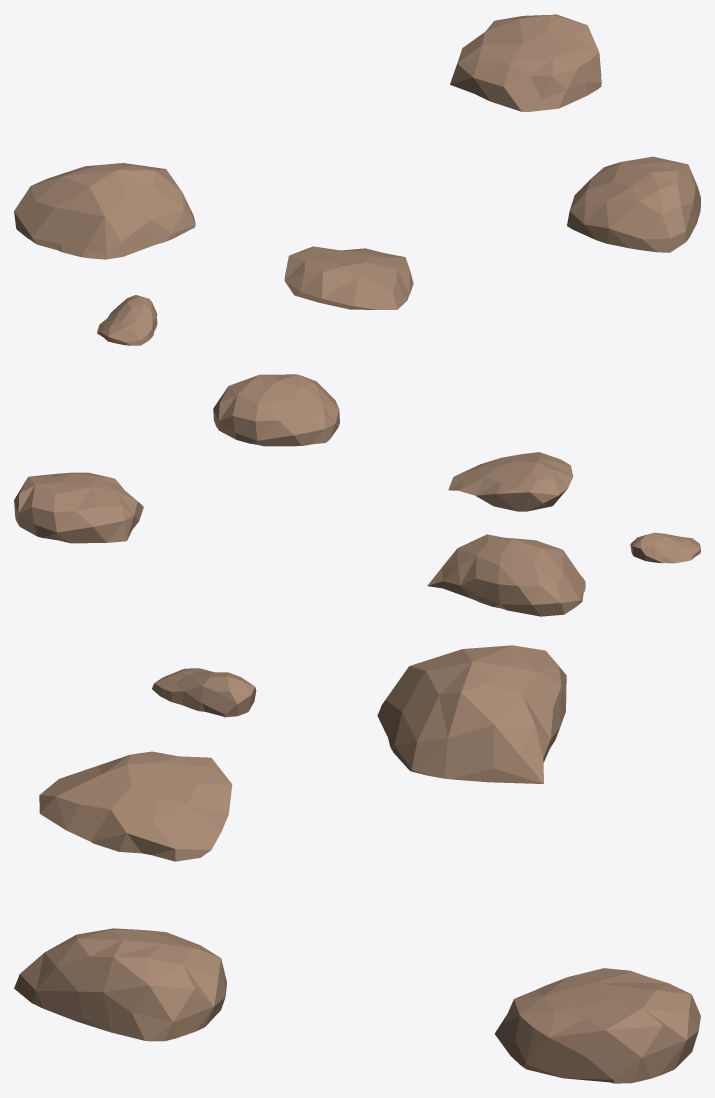
The model's file is Small_Rocks.fbx.
3 renders of one model, top to bottom at view 1: azimuth 30°, elevation 25°; view 2: azimuth 150°, elevation 25°; view 3: azimuth 270°, elevation 25°, orthographic. The views are drawn at different scales.
Parts seen in each view (by area): view 1: Small Rocks; view 2: Small Rocks; view 3: Small Rocks.
Boxes of the visible parts, x1=… form: Small Rocks: x1=14, y1=14, x2=700, y2=345; Small Rocks: x1=14, y1=374, x2=700, y2=616; Small Rocks: x1=14, y1=645, x2=700, y2=1083.
Size of the model in its own units: 62.34 by 6.15 by 42.62.
